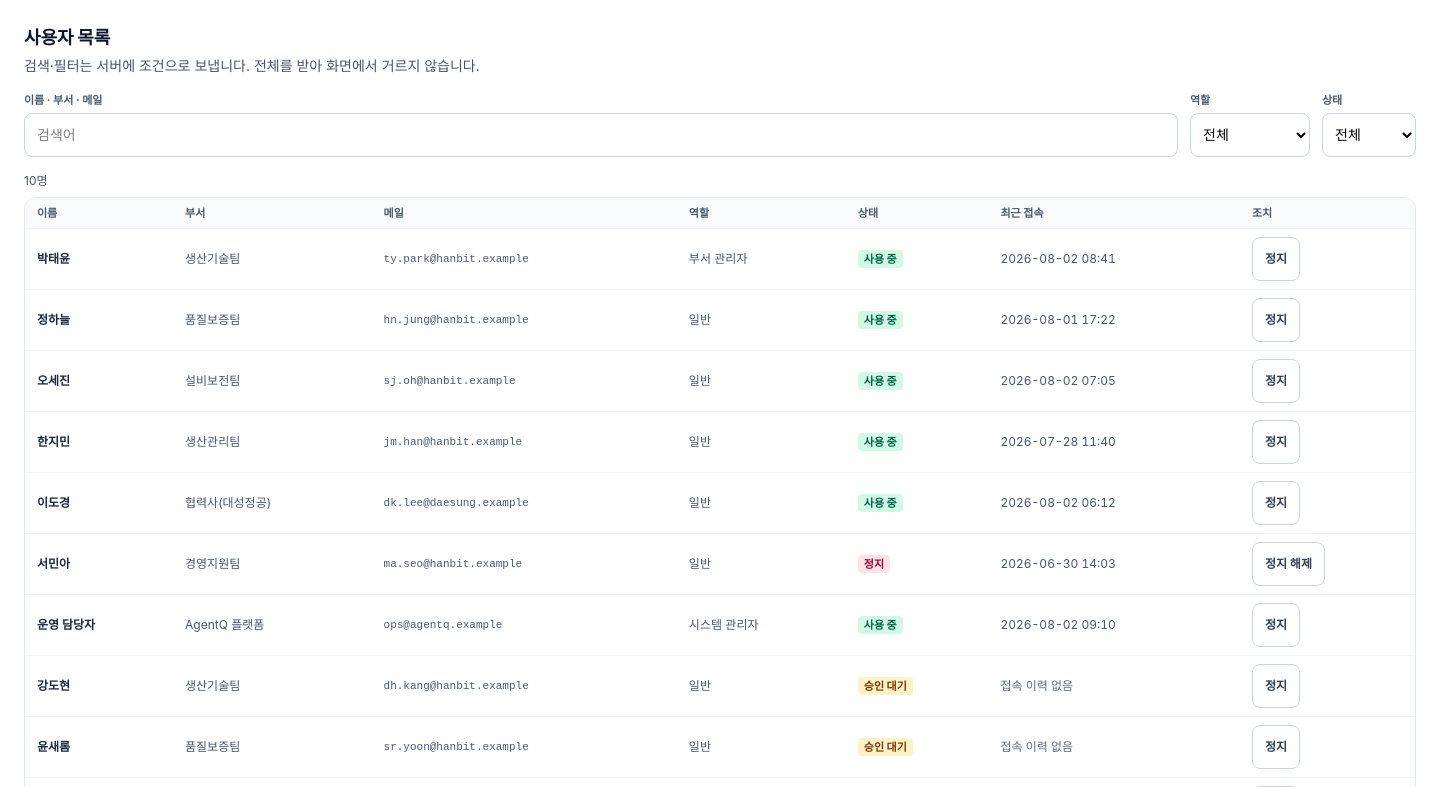
it: 사용자 목록 › 상태 필터가 목록을 실제로 좁힌다
The width and height of the screenshot is (1440, 787).
Check: the text "10명" is shown, box [24,172,48,188]
Select "승인 대기" in the dropdown labelled "상태" at (1369, 134), box [1322,112,1416,156]
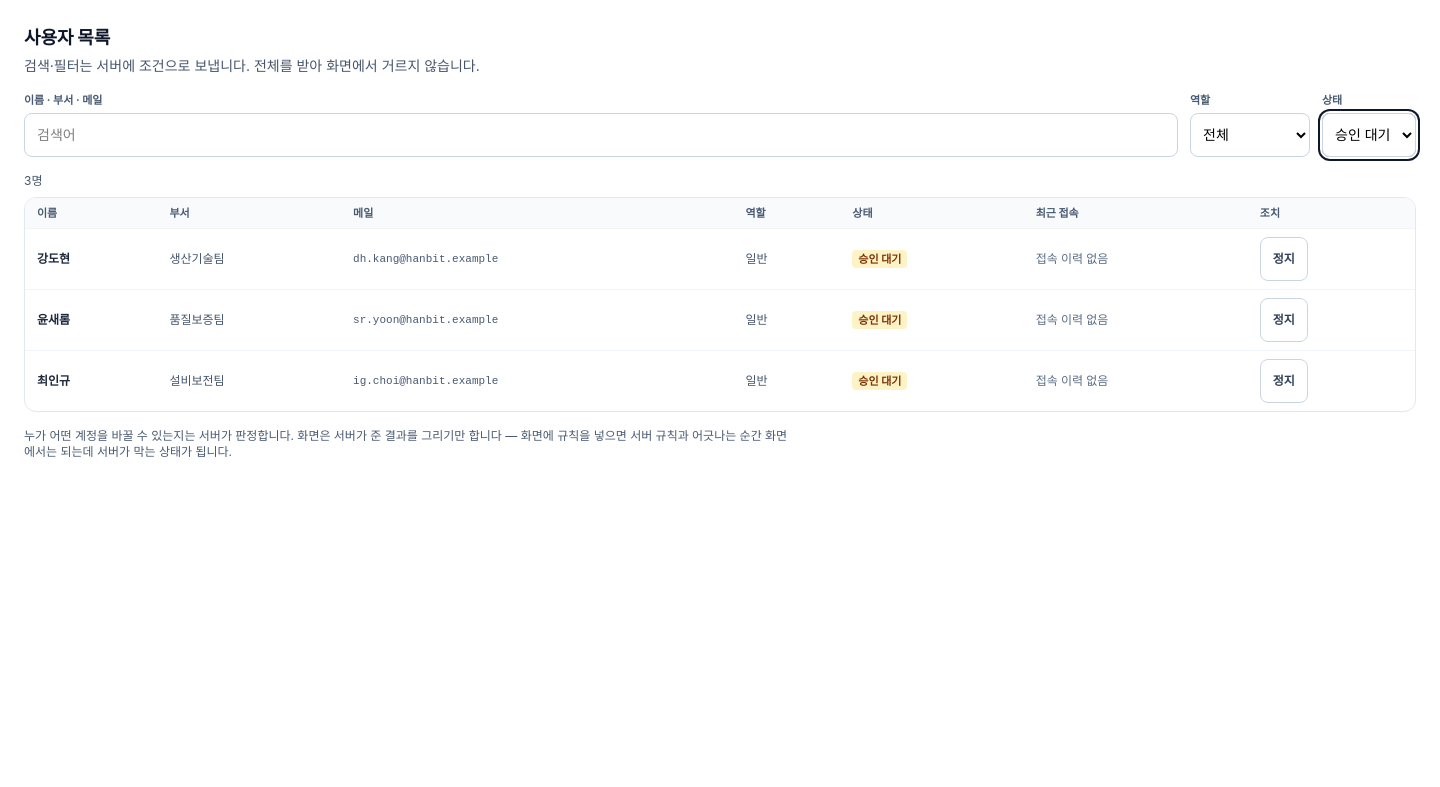
Check: the column heading "강도현" is shown, box [25,229,157,290]
Check: the text "3명" is shown, box [24,172,42,188]
